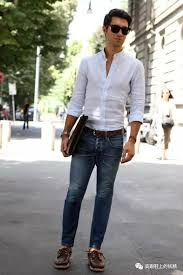F_shirt: (67, 47, 145, 131)
